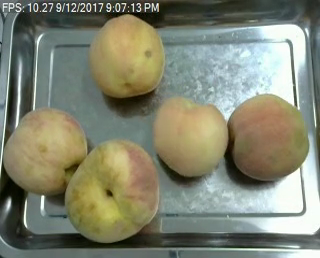Peach: (63, 139, 160, 244), (226, 92, 312, 180), (4, 108, 86, 196), (88, 13, 167, 99), (150, 95, 227, 178)
